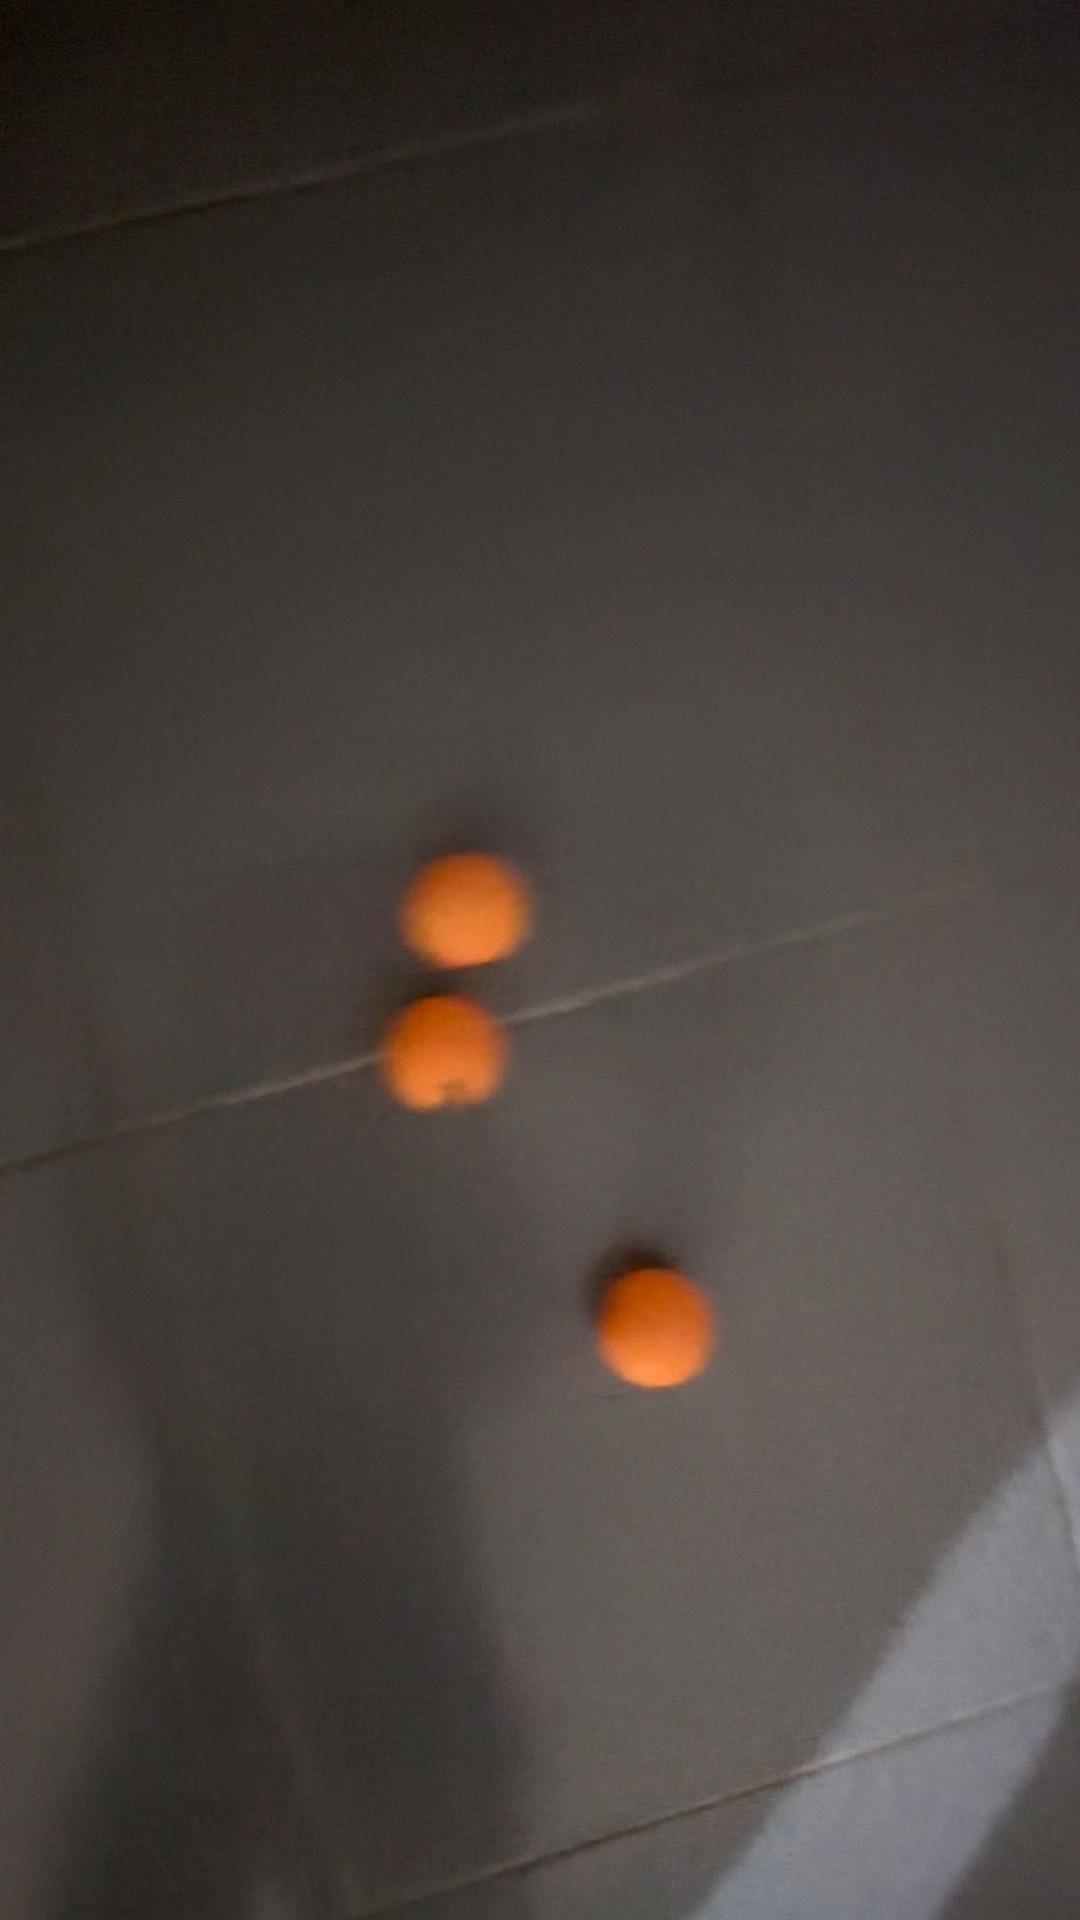oball: (375, 975, 517, 1133), (595, 1258, 731, 1390), (407, 848, 542, 980)
